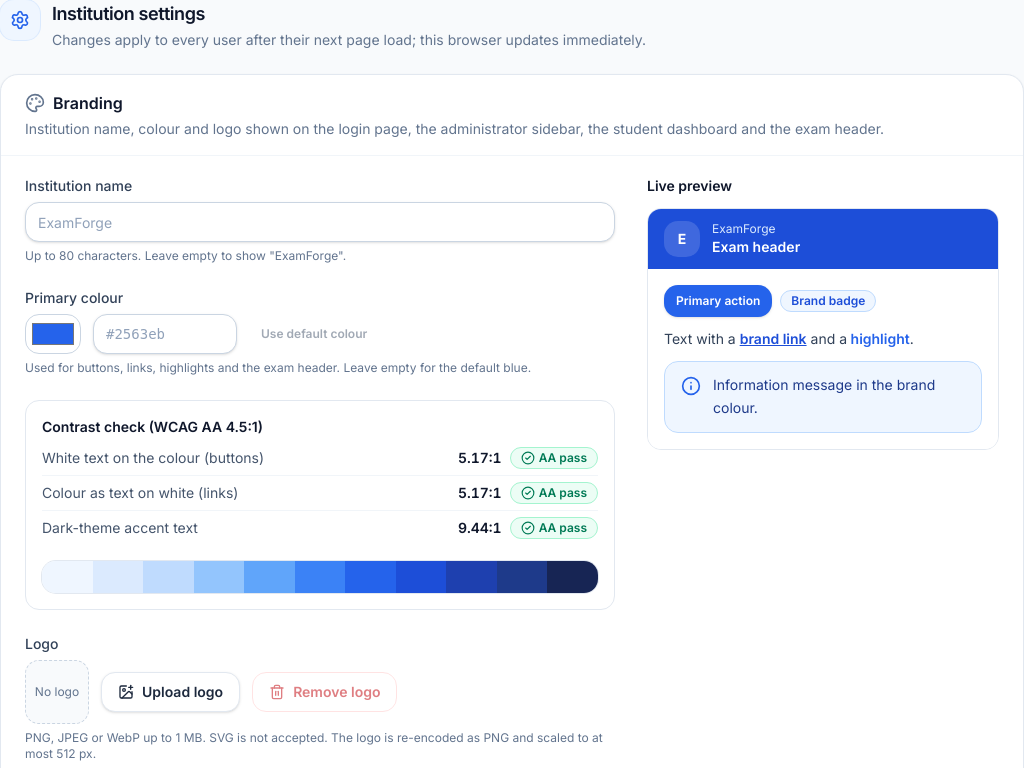
it: Branding form › saves the normalised name and colour, then applies and caches the branding
In the field labelled "Institution name": [320, 222] box top-left (25, 202), bottom-right (615, 242), type "  Sunrise   Public School "
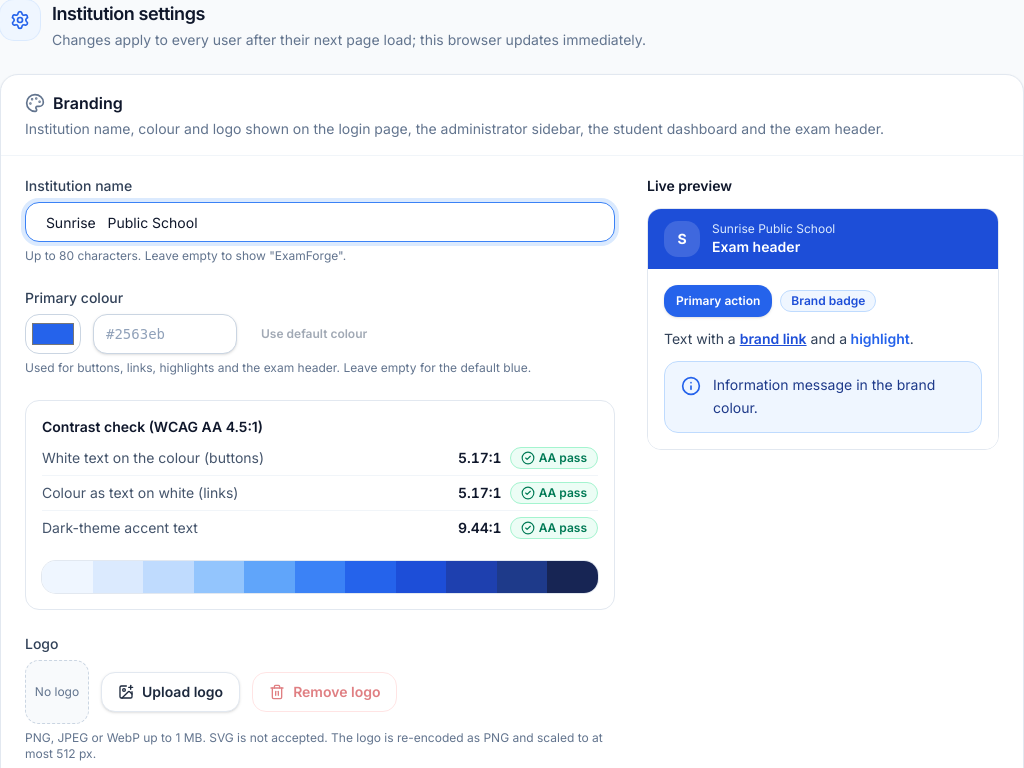
In the field labelled "Primary colour": [165, 334] box top-left (93, 314), bottom-right (237, 354), type "#0F766E"
(page scrolled)
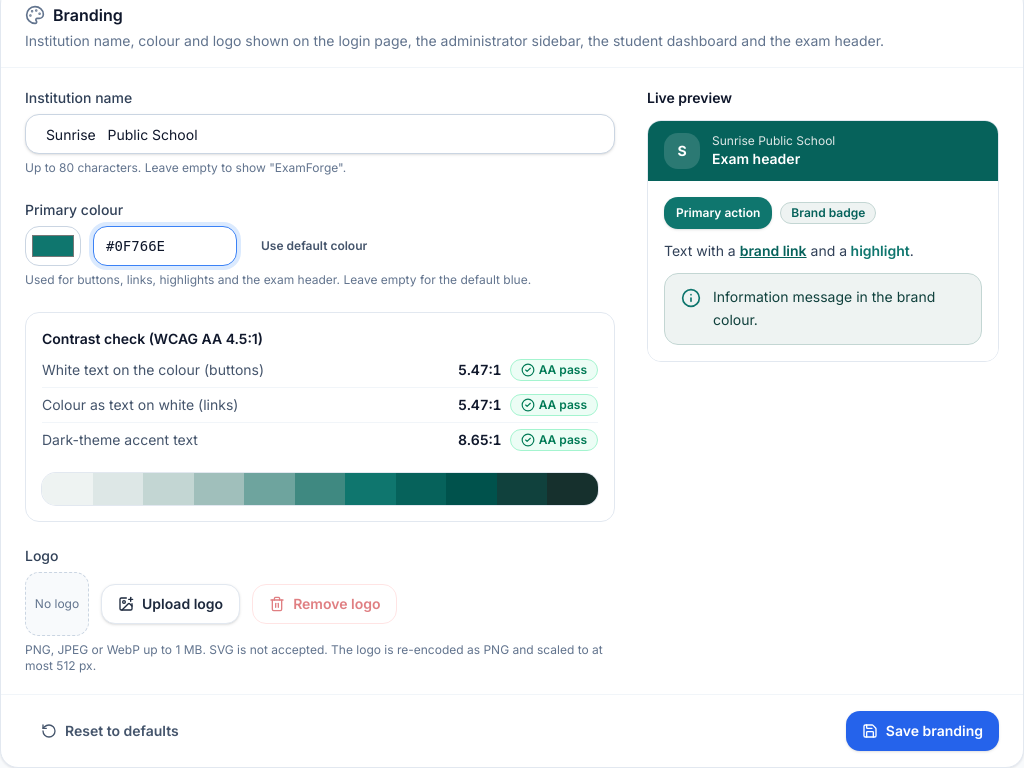
Click the button "Save branding": [922, 731] box top-left (846, 711), bottom-right (999, 751)
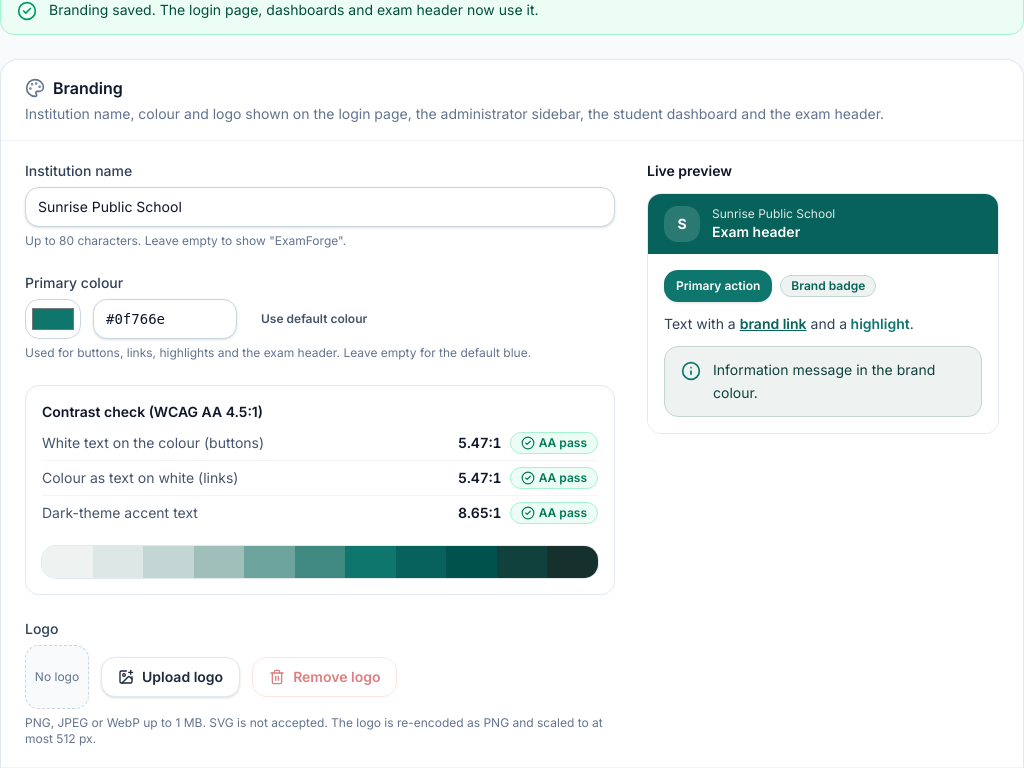
Result: the text "Sunrise Public School" is shown at top-left (712, 206), bottom-right (835, 222)
Result: the text "Branding saved" is shown at top-left (49, 1), bottom-right (538, 18)
